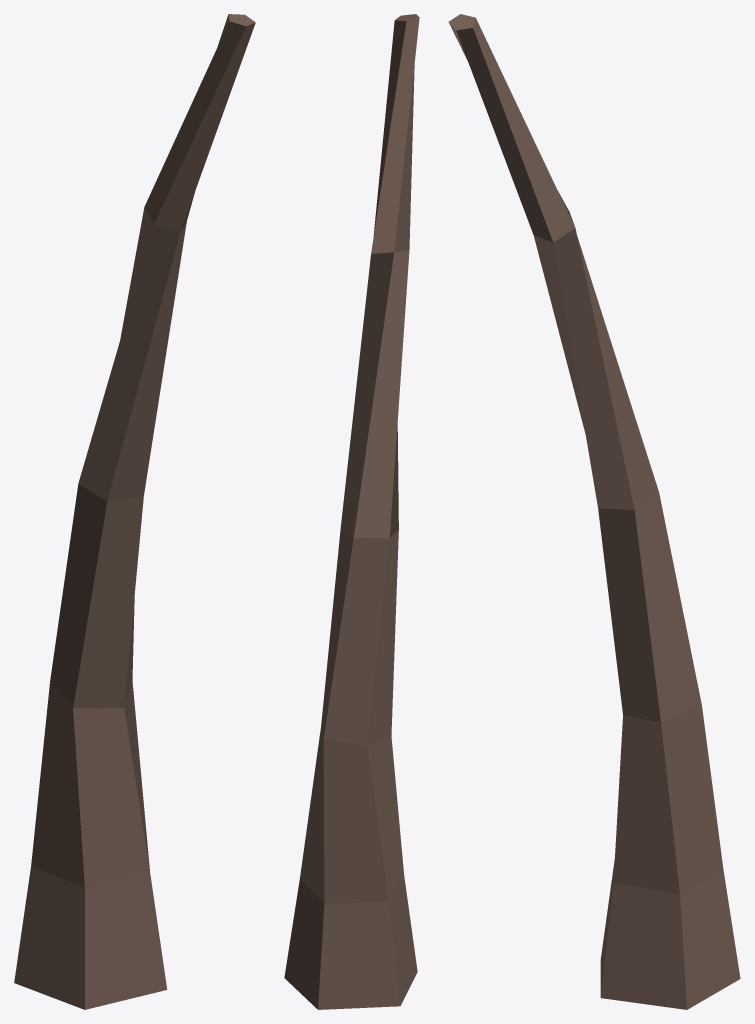
The model's file is TreeCoconutPalmTrunkA.glb.
3 renders of one model, left to right at view 1: azimuth 30°, elevation 25°; view 2: azimuth 150°, elevation 25°; view 3: azimuth 270°, elevation 25°, orthographic. The views are drawn at different scales.
Parts seen in each view (by area): view 1: Cylinder; view 2: Cylinder; view 3: Cylinder.
Part boxes in pixels (<box>): Cylinder: <box>14,14,255,1009</box>; Cylinder: <box>284,14,419,1009</box>; Cylinder: <box>448,14,740,1009</box>.
Bounding box in the file's own units: 1.17 × 8.56 × 2.32.
